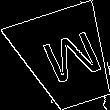M_S: (29, 27, 102, 90)
